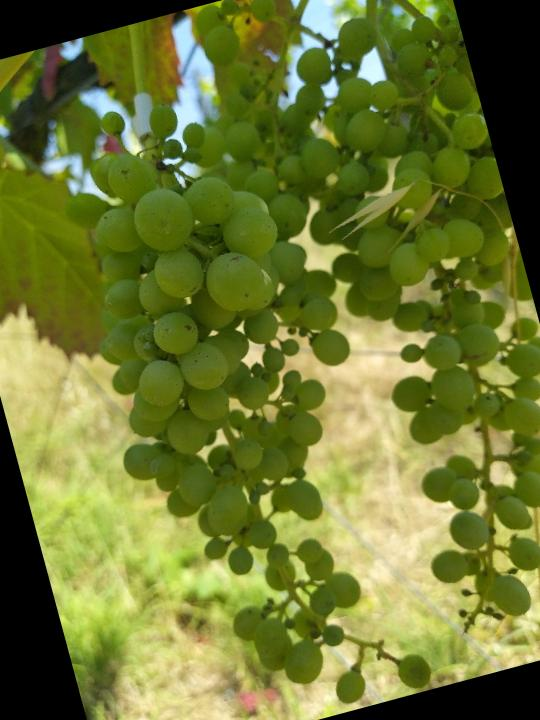grape: (29, 67, 440, 720)
